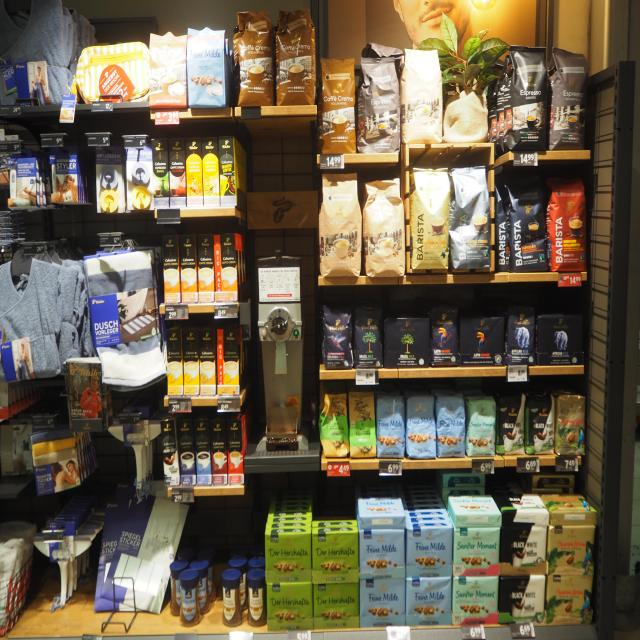AB Bohne: (505, 304, 537, 366)
AB Gemahlen: (536, 314, 584, 365)
Athiopien Bohne: (318, 392, 350, 459)
Athiopien Gemahlen: (347, 391, 377, 460)
BM Bohne: (354, 299, 383, 369)
BM Gemahlen: (383, 317, 430, 370)
BW Bohne: (525, 392, 555, 456), (496, 392, 526, 455)
BW Gemahlen: (498, 576, 547, 624), (499, 526, 548, 574), (493, 492, 549, 513)
Barista CB: (408, 166, 452, 272)
Barista CC: (448, 166, 492, 270)
Barista Espresso: (504, 172, 549, 272)
Barista Kolumbien: (545, 176, 588, 272)
C Fino Bohne: (320, 302, 354, 371)
CC Mild: (316, 171, 362, 279), (361, 175, 406, 277), (399, 48, 444, 144)
CC Vollmundig: (148, 30, 189, 111)
CC Vollmundig 36 Pads: (273, 10, 318, 106), (231, 15, 276, 110), (315, 57, 357, 157)
Colombia BB Bohne: (554, 393, 586, 456)
Colombia BB Gemahlen: (544, 574, 595, 625), (546, 525, 596, 573), (540, 492, 597, 512)
Empty Shelf: (266, 500, 312, 530), (313, 490, 357, 520), (402, 497, 456, 517), (313, 496, 359, 518)
Espresso Aromatisch: (356, 56, 401, 157), (548, 46, 590, 151)
Espresso Kraftig: (503, 44, 548, 154)
FM 36 Pads: (185, 26, 228, 110)
FM Bohne: (404, 391, 436, 460), (435, 392, 466, 459), (375, 393, 406, 459)
FM Gemahlen: (405, 527, 453, 578), (405, 577, 453, 627), (359, 578, 406, 627), (359, 529, 406, 578), (357, 496, 406, 517)
FM Instant: (176, 569, 202, 629)
Herzhatfe Mundig: (312, 531, 359, 583), (264, 532, 312, 582), (266, 582, 314, 630), (313, 582, 360, 629)
LG Bohne: (429, 303, 459, 369)
LG Gemahlen: (458, 315, 506, 366)
SM Bohne: (465, 395, 497, 459)
SM Gemahlen: (452, 528, 502, 576), (452, 576, 499, 625), (448, 495, 502, 516)
Simo CC Colombia: (168, 137, 187, 209)
Simo CCMild: (216, 328, 240, 395)
Simo CCMild bigpack: (182, 328, 200, 395), (166, 328, 183, 396)
Simo CCVollmundig: (213, 232, 238, 302)
Simo CCVollmundig bigpack: (179, 234, 198, 303), (162, 234, 181, 303), (197, 234, 215, 303)
Simo Decaff: (199, 328, 216, 396)
Simo Es Brazil: (151, 137, 170, 208)
Simo Es Caramel: (185, 137, 203, 208)
Simo Es Elegant: (226, 418, 244, 485)
Simo Es Kraft: (209, 418, 228, 485)
Simo Es Vanilla: (201, 137, 220, 207)
Simo Kaffee BW: (160, 419, 180, 485)
Simo Kaffee Kraft: (176, 418, 196, 485)
Simo Kaffee Mild: (193, 418, 212, 486)
Simo Sunrise: (217, 135, 237, 207)
